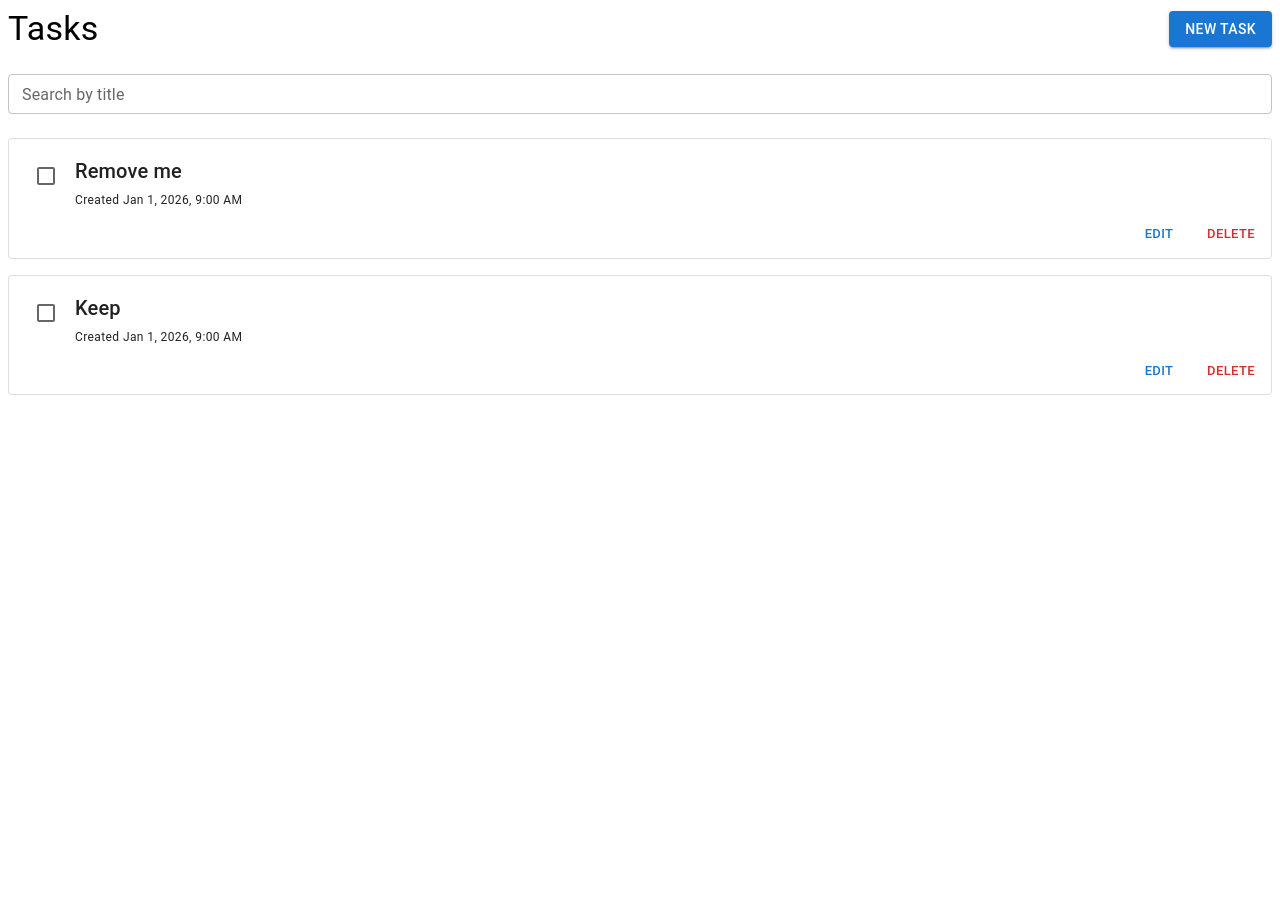
Test: TaskList › deletes a task and lets the user undo it
The image size is (1280, 900).
expect the heading "Remove me" is shown: met, box x1=75 y1=159 x2=182 y2=183
Click the button named "Delete \"Remove me\"".
click(1231, 234)  # box x1=1199 y1=219 x2=1263 y2=250
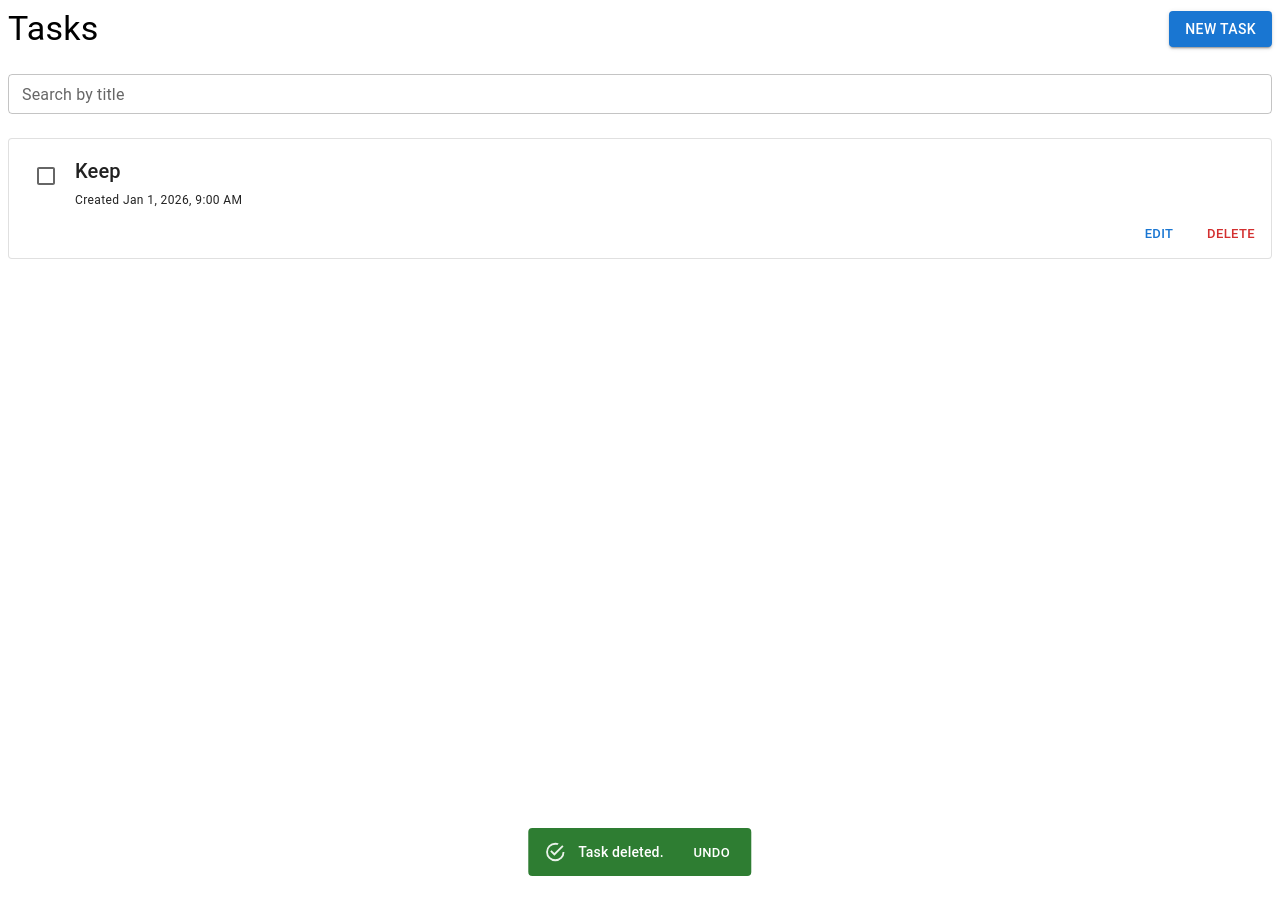
expect the heading "Remove me" is gone: met
expect the message shows "Task deleted.": met, box x1=578 y1=844 x2=664 y2=860
Click the button "Undo".
click(712, 853)  # box x1=680 y1=838 x2=744 y2=869
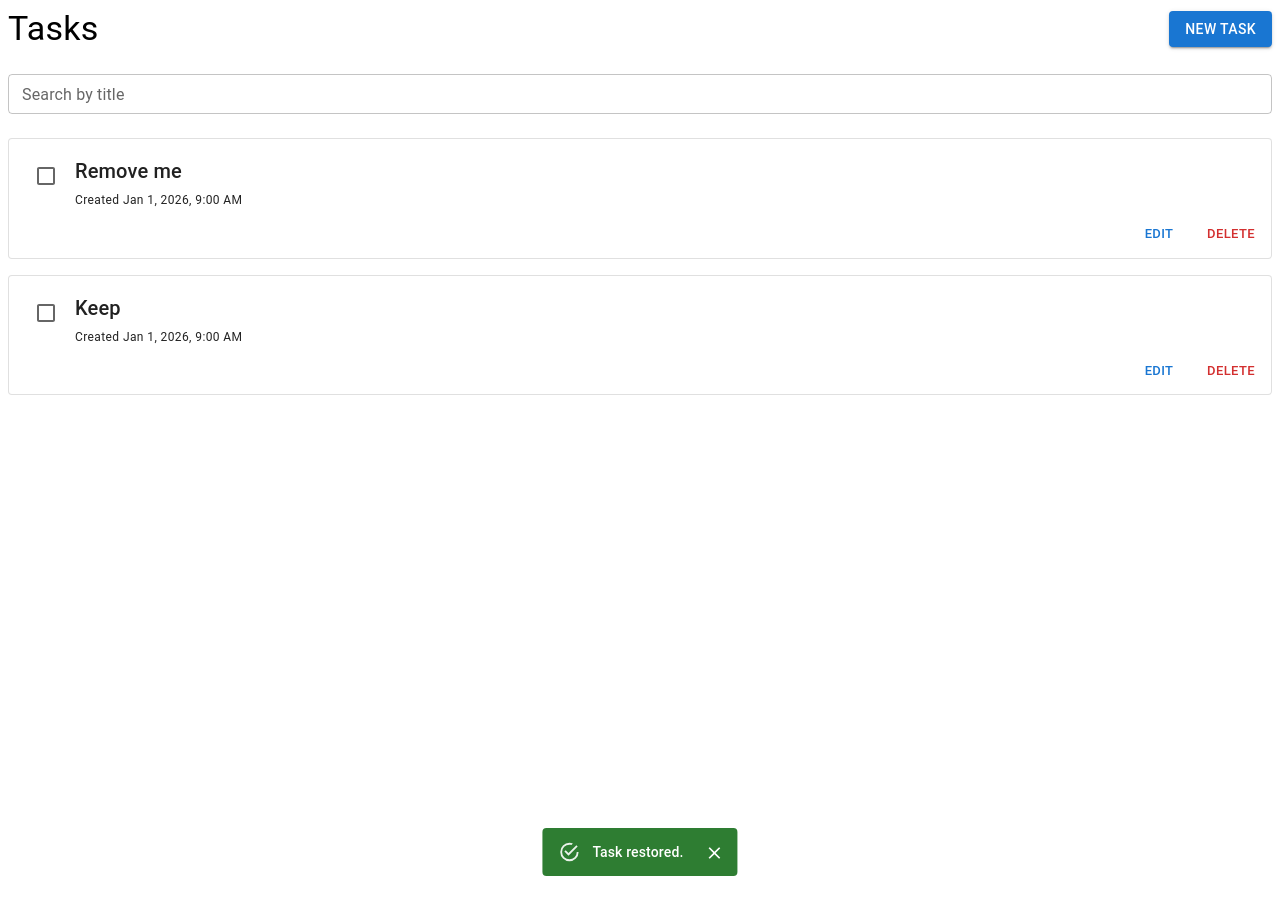
expect the element "Remove me" is shown: met, box x1=8 y1=138 x2=1272 y2=259
expect the text "Task restored." is shown: met, box x1=592 y1=844 x2=684 y2=860
